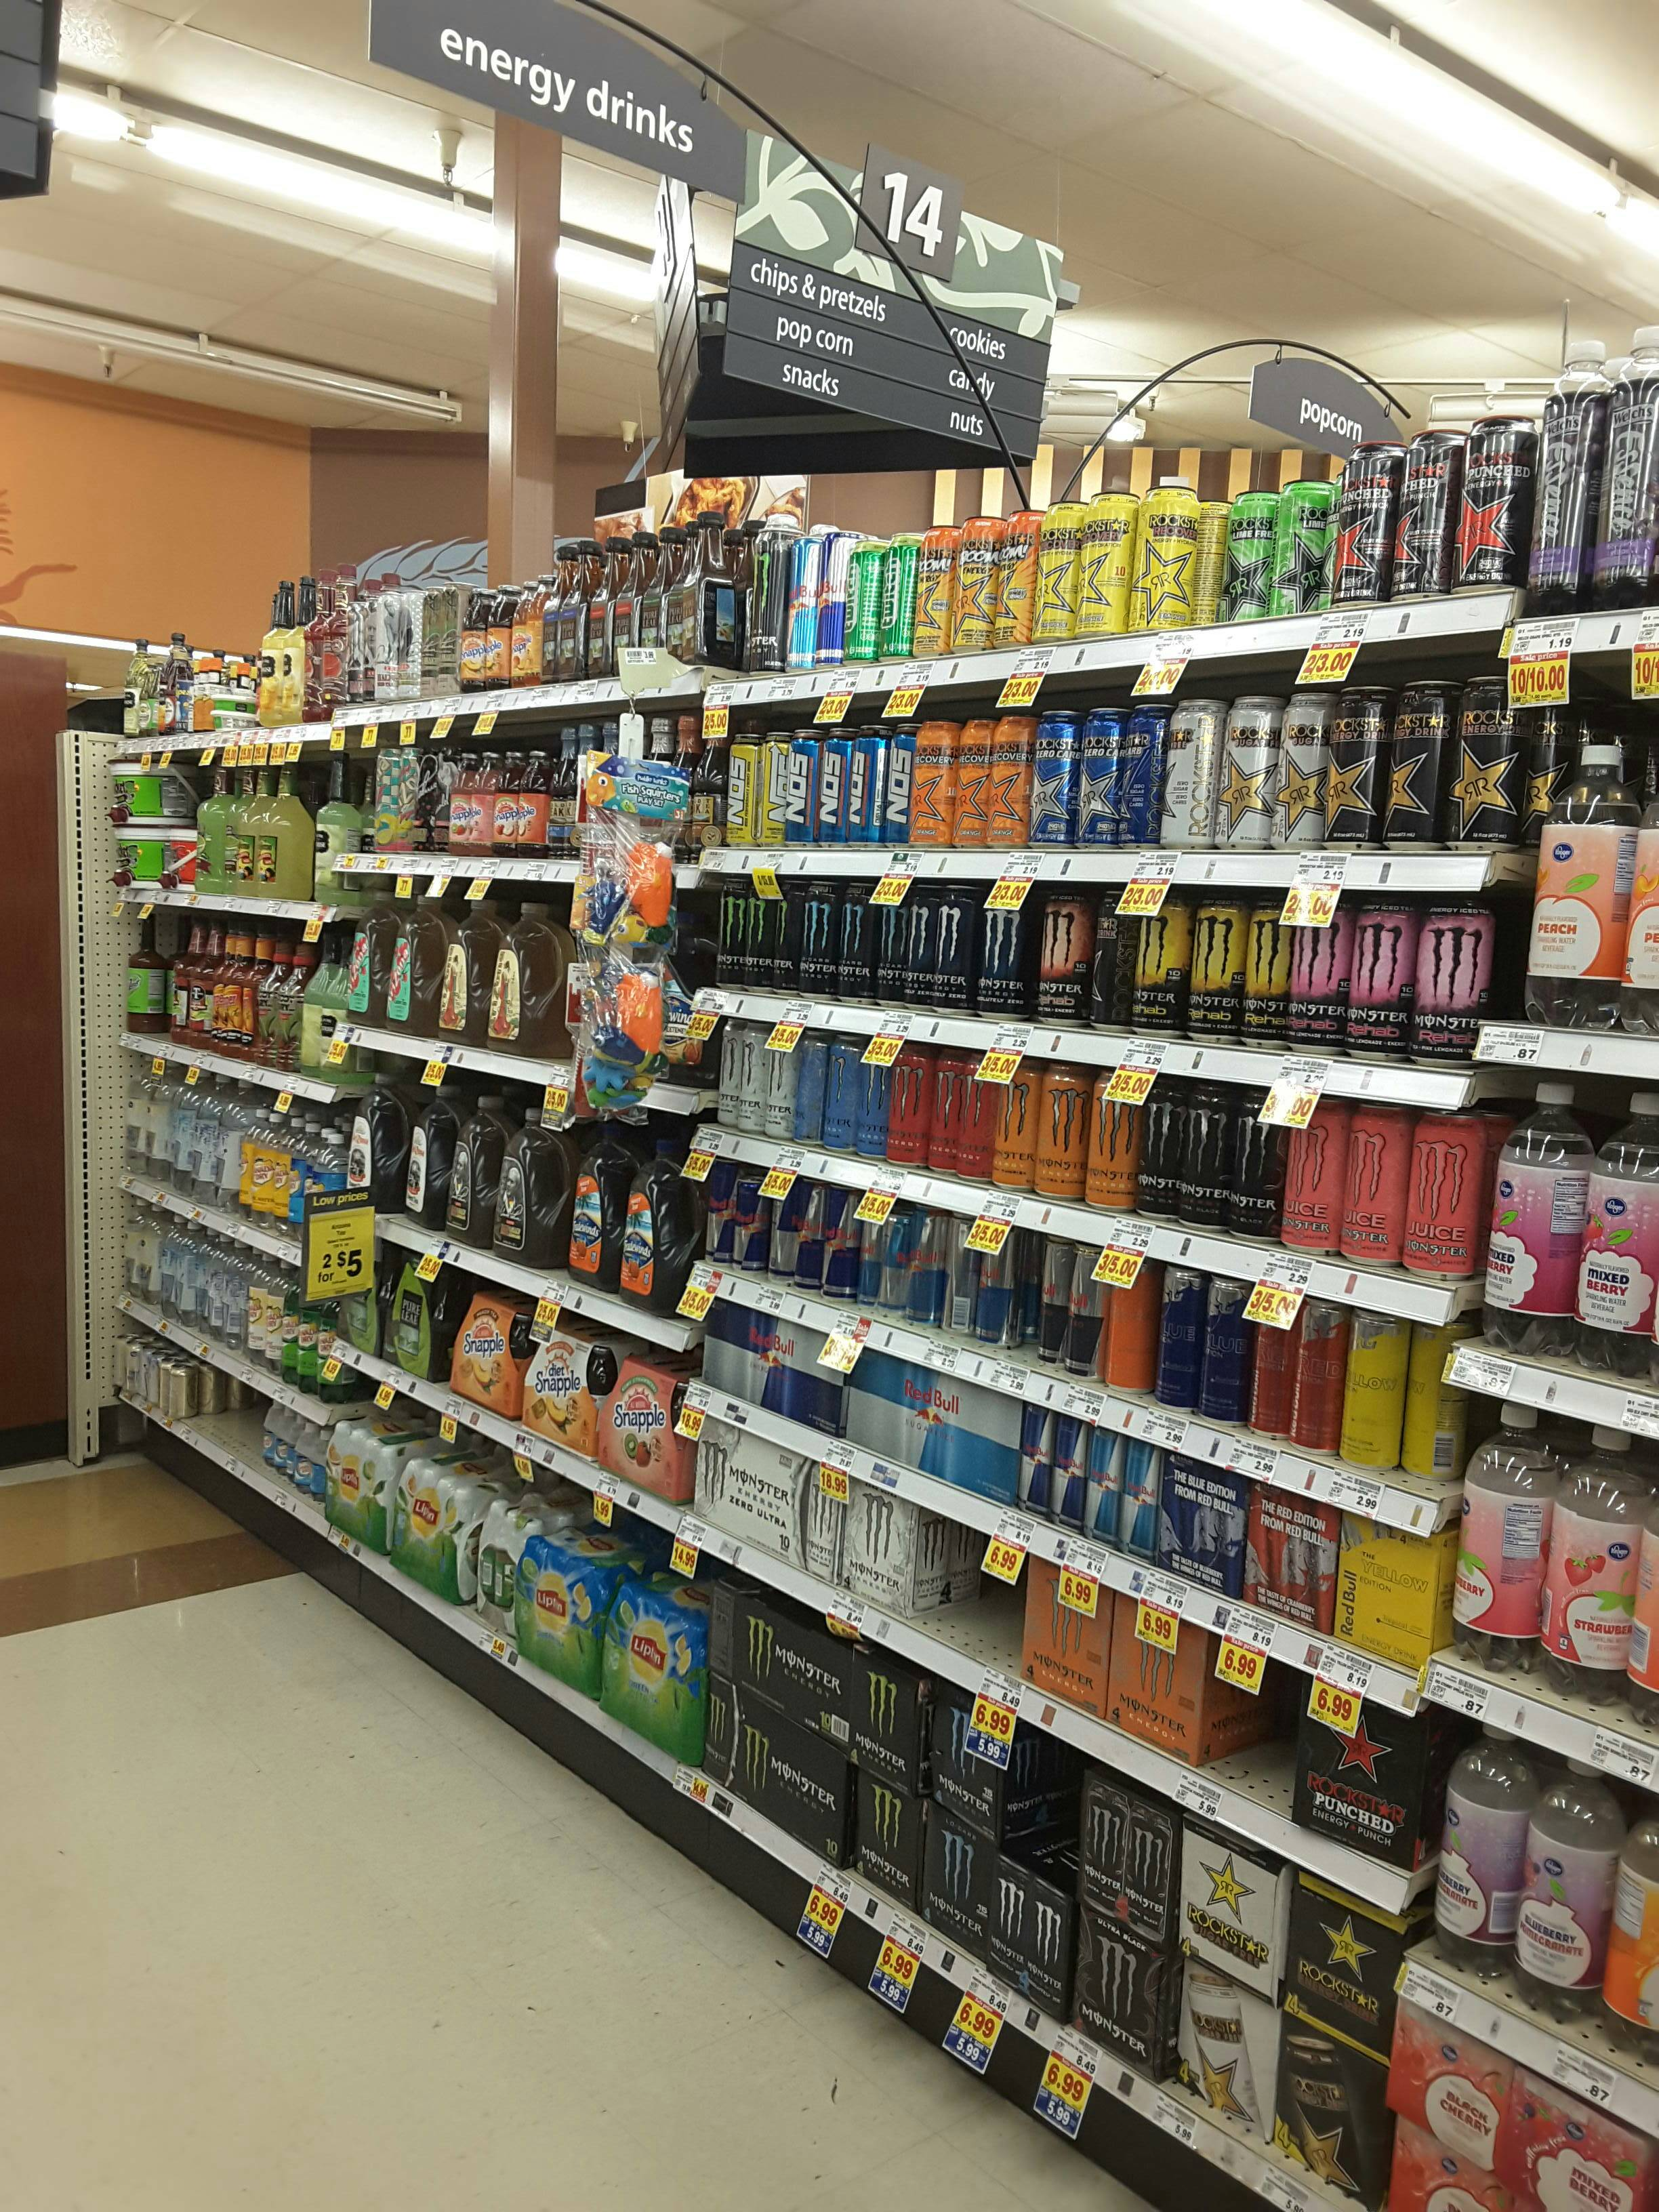product: (1535, 1430, 1647, 1696), (1483, 1083, 1588, 1355), (1516, 1759, 1621, 2022), (852, 1355, 1019, 1475), (1307, 1677, 1412, 1864), (1546, 733, 1608, 1031), (1593, 1080, 1650, 1381), (1544, 340, 1603, 613), (1408, 899, 1502, 1069), (1605, 317, 1659, 611), (1474, 1390, 1528, 1684), (1518, 2074, 1638, 2205), (1446, 672, 1534, 850), (1452, 1712, 1507, 1984), (1344, 1510, 1439, 1663), (608, 1583, 692, 1757), (1284, 2045, 1382, 2191), (1114, 1613, 1208, 1763), (708, 1310, 842, 1414), (1398, 2005, 1497, 2144), (709, 1698, 828, 1815), (1459, 404, 1532, 590), (1183, 1989, 1277, 2134), (1188, 1822, 1274, 1980), (516, 1536, 598, 1700), (1337, 421, 1405, 615), (810, 1475, 915, 1601), (1079, 1914, 1166, 2064), (627, 1136, 695, 1327), (1298, 1885, 1387, 2031), (699, 1426, 800, 1548), (1162, 1451, 1239, 1606), (1342, 1101, 1410, 1271), (559, 1116, 620, 1306), (1326, 678, 1394, 846), (1082, 1787, 1171, 1911), (1251, 1491, 1331, 1627), (601, 1360, 683, 1491), (1028, 1566, 1105, 1703), (1133, 486, 1201, 632), (1345, 1306, 1403, 1479), (1403, 421, 1457, 599), (716, 1611, 838, 1688), (1222, 688, 1279, 846), (1295, 897, 1352, 1055), (993, 1867, 1058, 2006), (1394, 679, 1446, 850), (1028, 890, 1093, 1022), (852, 1648, 920, 1773), (1229, 1090, 1284, 1242), (1218, 482, 1277, 624), (1412, 1310, 1467, 1460), (1358, 895, 1406, 1066), (929, 1689, 999, 1806), (525, 1325, 589, 1451), (1117, 697, 1169, 848), (455, 1292, 519, 1414), (1419, 1099, 1462, 1278), (1204, 1271, 1255, 1425), (927, 1810, 985, 1944), (1169, 698, 1218, 853), (1035, 495, 1086, 641), (737, 523, 786, 672), (1290, 1092, 1333, 1258), (951, 509, 1000, 655), (1190, 895, 1237, 1047), (1032, 704, 1080, 848), (1279, 482, 1331, 617), (854, 1778, 913, 1893), (986, 1054, 1035, 1193), (1108, 1249, 1152, 1402), (1249, 890, 1290, 1054), (873, 519, 917, 665), (972, 1228, 1023, 1353), (1087, 1064, 1129, 1216), (1134, 1082, 1180, 1221), (1298, 1303, 1338, 1460), (1281, 681, 1317, 852), (1155, 1270, 1199, 1413), (1138, 892, 1180, 1040), (1258, 1285, 1295, 1453), (932, 885, 978, 1019), (1037, 1055, 1077, 1207), (950, 719, 993, 857), (1183, 1082, 1223, 1230), (1087, 495, 1127, 636), (1065, 1244, 1103, 1390), (985, 880, 1023, 1021), (812, 516, 845, 672), (993, 712, 1030, 853), (1115, 1442, 1157, 1562), (915, 716, 950, 852), (802, 881, 838, 1005), (924, 1052, 958, 1179), (836, 881, 871, 1008), (847, 728, 882, 852), (1049, 1423, 1087, 1534), (1084, 709, 1114, 852), (857, 1038, 890, 1165), (1004, 509, 1035, 643), (873, 887, 906, 1012), (918, 528, 950, 657), (1030, 1235, 1058, 1374), (732, 1174, 769, 1278), (885, 718, 915, 846), (793, 1029, 824, 1148), (784, 730, 814, 852), (742, 880, 774, 993), (894, 1036, 920, 1170), (913, 1211, 941, 1336), (817, 725, 847, 841), (1091, 1421, 1117, 1552), (769, 1172, 796, 1292), (758, 726, 786, 845), (854, 1200, 882, 1317), (789, 521, 810, 676), (964, 1047, 986, 1186), (1026, 1399, 1051, 1527), (742, 1028, 770, 1132), (1098, 888, 1119, 1028), (852, 538, 875, 665), (704, 1157, 728, 1270), (770, 1026, 793, 1144), (803, 1184, 826, 1298), (732, 737, 755, 846), (716, 1017, 737, 1136), (828, 1184, 849, 1301), (831, 1028, 850, 1155), (908, 887, 927, 1014), (720, 881, 741, 991), (950, 1209, 967, 1336), (889, 1207, 906, 1327), (781, 880, 798, 1000)
